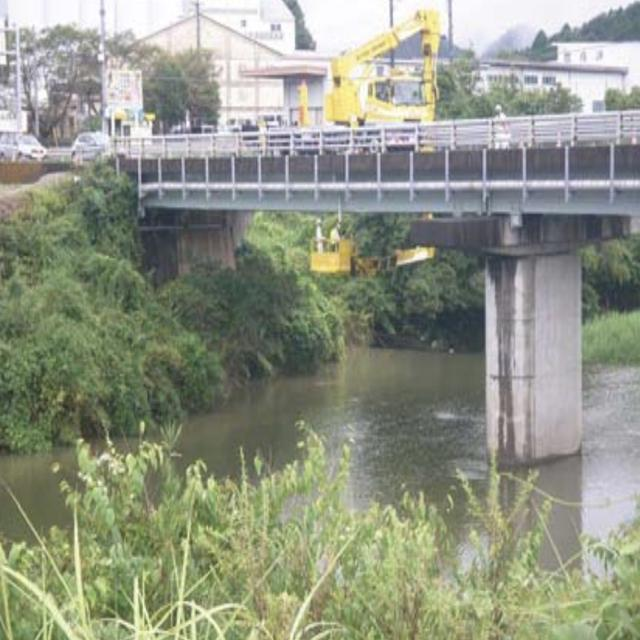leakage: (494, 256, 540, 467)
